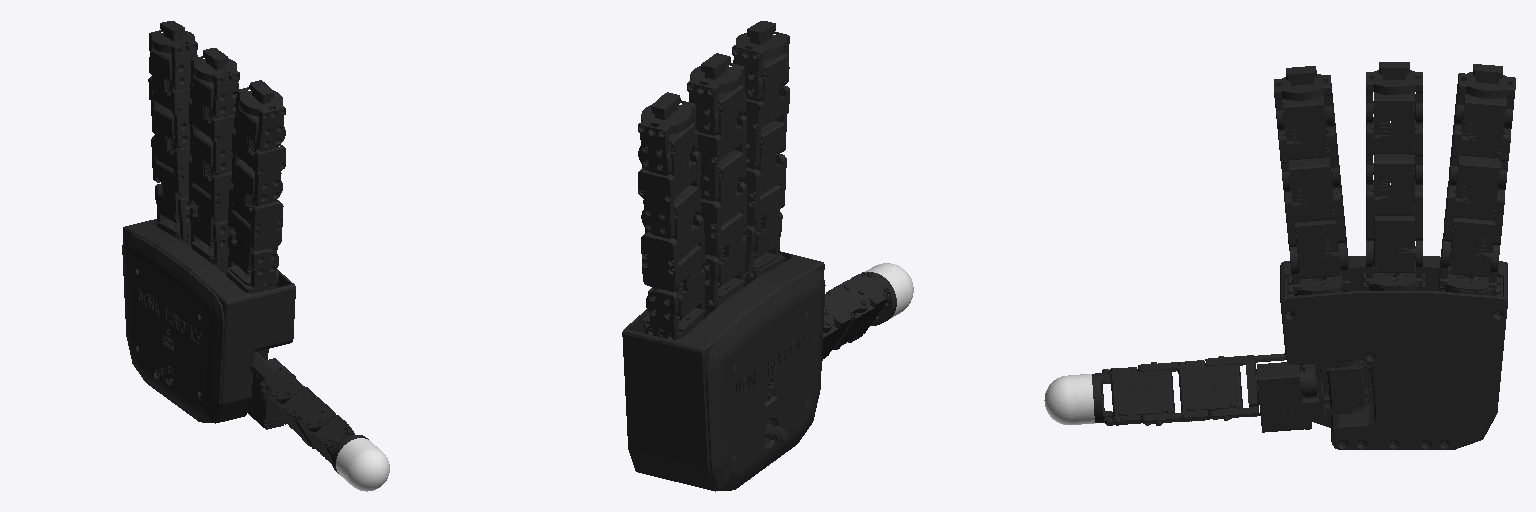
The robot description file, URDF, robot "allegro_hand_left":
<?xml version="1.0" ?>
<!-- =================================================================================== -->
<!-- |    This document was autogenerated by xacro from allegro_hand_description_right.xacro | -->
<!-- |    EDITING THIS FILE BY HAND IS NOT RECOMMENDED                                 | -->
<!-- =================================================================================== -->
<robot name="allegro_hand_left" xmlns:xacro="http://www.ros.org/wiki/xacro">
  <!-- ======================== BASE PARAMS ========================= -->
  <!-- ======================== FINGER PARAMS ======================== -->
  <!-- full height from joint to tip. when used,
    the radius of the finger tip sphere will be subtracted
    and one fixed link will be added for the tip. -->
  <!-- ========================= THUMB PARAMS ========================= -->
  <!-- ========================= LIMITS ========================= -->
  <!-- ============================================================================= -->
  <!-- PALM -->
 <link name="world"/>
  <joint name="global" type="fixed">
        <parent link="world"/>
        <child link="palm_link"/>
        <!--<origin xyz="0 0 0.095" rpy="0 0 0"/>-->
        <origin xyz="0 0 0.0" rpy="0 0 0"/>
  </joint>
  <link name="palm_link">
    <visual>
      <geometry>
        <mesh filename="package://allegro_hand_controllers/meshes/left_hand_G.stl" scale="0.001 0.001 0.001"/>
      </geometry>
      <origin rpy="0 0 1.57" xyz="0.02 0.0 -0.1"/>
      <material name="black">
        <color rgba="0.2 0.2 0.2 1"/>
      </material>
    </visual>
    <collision>
      <geometry>
        <mesh filename="package://allegro_hand_controllers/meshes/left_hand_G.stl" scale="0.001 0.001 0.001"/>
      </geometry>
 <origin rpy="0 0 1.57" xyz="0.02 0.0 -0.1"/>
    </collision>
    <inertial>
      <origin rpy="0 0 0" xyz="0 0 0.0475"/>
      <mass value="0.4154"/>
      <inertia ixx="1e-4" ixy="0.0" ixz="0.0" iyy="1e-4" iyz="0.0" izz="1e-4"/>
    </inertial>
  </link>
  <!-- ============================================================================= -->
  <!-- FINGERS -->
  <!-- RIGHT HAND due to which finger is number 0 -->
  <!-- for LEFT HAND switch the sign of the **offset_origin_y** and **finger_angle_r** parameters-->
  <!-- [LINK 0, 4, 8] -->
    <link name="link_0_0">
    <visual>
      <geometry>
        <mesh filename="package://allegro_hand_controllers/meshes/l1.stl" scale="0.001 0.001 0.001"/>
      </geometry>
      <origin rpy="0 0 -1.57" xyz="-0.025 -0.019 0.165"/>
      <material name="black">
        <color rgba="0.2 0.2 0.2 1"/>
      </material>
    </visual>
    <collision>
      <geometry>
        <mesh filename="package://allegro_hand_controllers/meshes/l1.stl" scale="0.001 0.001 0.001"/>
      </geometry>
      <origin rpy="0 0 -1.57" xyz="-0.025 -0.019 0.165"/>
    </collision>
    <inertial>
      <mass value="0.0176"/>
      <origin rpy="0 0 0" xyz="0 0 0"/>
      <inertia ixx="1.2854008e-05" ixy="2.04e-08" ixz="1.89e-06" iyy="1.225e-05" iyz="1.51e-07" izz="2.999e-06"/>
    </inertial>
  </link>
  <joint name="joint_0_0" type="revolute">
    <axis xyz="0 0 1"/>
    <limit effort="15" lower="-0.47" upper="0.47" velocity="7"/>
    <parent link="palm_link"/>
    <child link="link_0_0"/>
    <origin rpy="0.08726646255 0 0" xyz="0.0025 -0.0405 -0.00945"/>
    <dynamics damping="3" friction="10"/>
  </joint>
  <!-- [LINK 1, 5, 9] -->
  <link name="link_1_0">
    <visual>
      <geometry>
        <mesh filename="package://allegro_hand_controllers/meshes/l2.stl" scale="0.001 0.001 0.001"/>
      </geometry>
      <origin rpy="0 0 -1.57" xyz="-0.025 -0.019 0.145"/>
      <material name="black"/>
    </visual>
    <collision>
      <geometry>
        <mesh filename="package://allegro_hand_controllers/meshes/l2.stl" scale="0.001 0.001 0.001"/>
      </geometry>
      <origin rpy="0 0 -1.57" xyz="-0.025 -0.019 0.145"/>
    </collision>
    <inertial>
      <mass value="0.066"/>
      <origin rpy="0 0 0" xyz="0 0 0"/>
      <inertia ixx="6.2497616e-06" ixy="0.0000e-06" ixz="-1.892683e-06" iyy="3.1284129e-05" iyz="0.0000e-06" izz="2.9004797e-05"/>
    </inertial>
  </link>
  <joint name="joint_1_0" type="revolute">
    <limit effort="15" lower="-0.196" upper="1.9" velocity="7"/>
    <axis xyz="0 1 0"/>
    <parent link="link_0_0"/>
    <child link="link_1_0"/>
    <origin xyz="0 0 0.021"/>
    <dynamics damping="3" friction="5"/>
  </joint>
  <!-- [LINK 2, 6, 10]-->
  <link name="link_2_0">
    <visual>
      <geometry>
        <mesh filename="package://allegro_hand_controllers/meshes/l3.stl" scale="0.001 0.001 0.001"/>
      </geometry>
      <origin rpy="0 0 -1.57" xyz="-0.025 -0.019 0.0945"/>
      <material name="black"/>
    </visual>
    <collision>
      <geometry>
        <mesh filename="package://allegro_hand_controllers/meshes/l3.stl" scale="0.001 0.001 0.001"/>
      </geometry>
      <origin rpy="0 0 -1.57" xyz="-0.025 -0.019 0.0945"/>
    </collision>
    <inertial>
      <mass value="0.0366"/>
      <origin rpy="0 0 0" xyz="0 0 0"/>
      <inertia ixx="3.8070280e-06" ixy="5.7154287e-03" ixz="-9.9708657e-07" iyy="1.4547214e-05" iyz="2.632663e-04" izz="1.2905337e-05"/>
    </inertial>
  </link>
  <joint name="joint_2_0" type="revolute">
    <axis xyz="0 1 0"/>
    <limit effort="15" lower="-0.174" upper="1.9" velocity="7"/>
    <parent link="link_1_0"/>
    <child link="link_2_0"/>
    <origin xyz="0 0 0.051"/>
    <dynamics damping="8" friction="10"/>
  </joint>
  <!-- [LINK 3, 7, 11] -->
  <link name="link_3_0">
    <visual>
      <geometry>
        <mesh filename="package://allegro_hand_controllers/meshes/l4.stl" scale="0.001 0.001 0.001"/>
      </geometry>
      <origin rpy="0 0 -1.57" xyz="-0.025 -0.019 0.0561"/>
      <material name="black"/>
    </visual>
    <collision>
      <geometry>
        <mesh filename="package://allegro_hand_controllers/meshes/l4.stl" scale="0.001 0.001 0.001"/>
      </geometry>
      <origin rpy="0 0 -1.57" xyz="-0.025 -0.019 0.0561"/>
    </collision>
    <inertial>
      <mass value="0.00569"/>
      <origin rpy="0 0 0" xyz="0 0 0"/>
      <inertia ixx="1.176928e-06" ixy="5.0891669e-03" ixz="0.000000e-06" iyy="2.40127e-06" iyz="-5.3128971e-11" izz="1.674842e-06"/>
    </inertial>
  </link>
  <joint name="joint_3_0" type="revolute">
    <axis xyz="0 1 0"/>
    <limit effort="15" lower="-0.227" upper="1.9" velocity="7"/>
    <parent link="link_2_0"/>
    <child link="link_3_0"/>
    <origin xyz="0 0 0.0384"/>
    <dynamics damping="10" friction="12"/>
  </joint>
  <!-- [FINGER TIP] -->
  <link name="link_3_0_tip">
    <visual>
      <geometry>
        <mesh filename="package://allegro_hand_controllers/meshes/finger_tip.stl" scale="0.001 0.001 0.001"/>
      </geometry>
      <origin rpy="0 0 -1.57" xyz="-0.05482 -0.01393 -0.00995"/>
      <material name="white">
        <color rgba=".9 .9 .9 1"/>
      </material>
    </visual>
    <collision>
      <geometry>
        <mesh filename="package://allegro_hand_controllers/meshes/finger_tip.stl" scale="0.001 0.001 0.001"/>
      </geometry>
      <origin rpy="0 0 -1.57" xyz="-0.05482 -0.01393 -0.00995"/>
    </collision>
    <inertial>
      <mass value="0.00"/>
      <origin rpy="0 0 0" xyz="0 0 0"/>
      <inertia ixx="9.68e-07" ixy="0" ixz="0" iyy="9.68e-07" iyz="0" izz="9.68e-07"/>
    </inertial>
  </link>
  <joint name="joint_3_0_tip" type="fixed">
    <parent link="link_3_0"/>
    <child link="link_3_0_tip"/>
    <origin rpy="0 0 0" xyz="0 0 0.0267"/>
  </joint>
  <!-- [LINK 0, 4, 8] -->
  <link name="link_4_0">
    <visual>
      <geometry>
        <mesh filename="package://allegro_hand_controllers/meshes/l1.stl" scale="0.001 0.001 0.001"/>
      </geometry>
        <origin rpy="0 0 -1.57" xyz="-0.025 -0.019 0.165"/>
      <material name="black"/>
    </visual>
    <collision>
     <geometry>
        <mesh filename="package://allegro_hand_controllers/meshes/l1.stl" scale="0.001 0.001 0.001"/>
      </geometry>
        <origin rpy="0 0 -1.57" xyz="-0.025 -0.019 0.165"/>
    </collision>
    <inertial>
      <mass value="0.0176"/>
      <origin rpy="0 0 0" xyz="0 0 0"/>
      <inertia ixx="1.2854008e-05" ixy="2.04e-08" ixz="1.89e-06" iyy="1.225e-05" iyz="1.51e-07" izz="2.999e-06"/>
    </inertial>
  </link>
  <joint name="joint_4_0" type="revolute">
    <axis xyz="0 0 1"/>
    <limit effort="15" lower="-0.47" upper="0.47" velocity="7"/>
    <parent link="palm_link"/>
    <child link="link_4_0"/>
    <origin rpy="0.0 0 0" xyz="0 0 -0.0079"/>
    <dynamics damping="3" friction="10"/>
  </joint>
  <!-- [LINK 1, 5, 9] -->
  <link name="link_5_0">
    <visual>
      <geometry>
        <mesh filename="package://allegro_hand_controllers/meshes/l2.stl" scale="0.001 0.001 0.001"/>
      </geometry>
      <origin rpy="0 0 -1.57" xyz="-0.025 -0.019 0.145"/>
      <material name="black"/>
    </visual>
    <collision>
      <geometry>
        <mesh filename="package://allegro_hand_controllers/meshes/l2.stl" scale="0.001 0.001 0.001"/>
      </geometry>
      <origin rpy="0 0 -1.57" xyz="-0.025 -0.019 0.145"/>
    </collision>
    <inertial>
      <mass value="0.066"/>
      <origin rpy="0 0 0" xyz="0 0 0"/>
      <inertia ixx="6.2497616e-06" ixy="0.0000e-06" ixz="-1.892683e-06" iyy="3.1284129e-05" iyz="0.0000e-06" izz="2.9004797e-05"/>
    </inertial>
  </link>
  <joint name="joint_5_0" type="revolute">
    <limit effort="15" lower="-0.196" upper="1.9" velocity="7"/>
    <axis xyz="0 1 0"/>
    <parent link="link_4_0"/>
    <child link="link_5_0"/>
    <origin xyz="0 0 0.021"/>
    <dynamics damping="3" friction="5"/>
  </joint>
  <!-- [LINK 2, 6, 10]-->
  <link name="link_6_0">
    <visual>
      <geometry>
        <mesh filename="package://allegro_hand_controllers/meshes/l3.stl" scale="0.001 0.001 0.001"/>
      </geometry>
      <origin rpy="0 0 -1.57" xyz="-0.025 -0.019 0.0945"/>
      <material name="black"/>
    </visual>
    <collision>
      <geometry>
        <mesh filename="package://allegro_hand_controllers/meshes/l3.stl" scale="0.001 0.001 0.001"/>
      </geometry>
      <origin rpy="0 0 -1.57" xyz="-0.025 -0.019 0.0945"/>
    </collision>
    <inertial>
      <mass value="0.0366"/>
      <origin rpy="0 0 0" xyz="0 0 0"/>
      <inertia ixx="3.8070280e-06" ixy="5.7154287e-03" ixz="-9.9708657e-07" iyy="1.4547214e-05" iyz="2.632663e-04" izz="1.2905337e-05"/>
    </inertial>
  </link>
  <joint name="joint_6_0" type="revolute">
    <axis xyz="0 1 0"/>
    <limit effort="15" lower="-0.174" upper="1.9" velocity="7"/>
    <parent link="link_5_0"/>
    <child link="link_6_0"/>
    <origin xyz="0 0 0.051"/>
    <dynamics damping="8" friction="10"/>
  </joint>
  <!-- [LINK 3, 7, 11] -->
  <link name="link_7_0">
    <visual>
      <geometry>
        <mesh filename="package://allegro_hand_controllers/meshes/l4.stl" scale="0.001 0.001 0.001"/>
      </geometry>
      <origin rpy="0 0 -1.57" xyz="-0.025 -0.019 0.0561"/>
      <material name="black"/>
    </visual>
    <collision>
      <geometry>
        <mesh filename="package://allegro_hand_controllers/meshes/l4.stl" scale="0.001 0.001 0.001"/>
      </geometry>
      <origin rpy="0 0 -1.57" xyz="-0.025 -0.019 0.0561"/>
    </collision>
    <inertial>
      <mass value="0.00569"/>
      <origin rpy="0 0 0" xyz="0 0 0"/>
      <inertia ixx="1.176928e-06" ixy="5.0891669e-03" ixz="0.000000e-06" iyy="2.40127e-06" iyz="-5.3128971e-11" izz="1.674842e-06"/>
    </inertial>
  </link>
  <joint name="joint_7_0" type="revolute">
    <axis xyz="0 1 0"/>
    <limit effort="15" lower="-0.227" upper="1.9" velocity="7"/>
    <parent link="link_6_0"/>
    <child link="link_7_0"/>
    <origin xyz="0 0 0.0384"/>
    <dynamics damping="10" friction="12"/>
  </joint>
  <!-- [FINGER TIP] -->
  <link name="link_7_0_tip">
    <visual>
      <geometry>
        <mesh filename="package://allegro_hand_controllers/meshes/finger_tip.stl" scale="0.001 0.001 0.001"/>
      </geometry>
       <origin rpy="0 0 -1.57" xyz="-0.05482 -0.01393 -0.00995"/>
      <material name="white">
        <color rgba=".9 .9 .9 1"/>
      </material>
    </visual>
    <collision>
      <geometry>
        <mesh filename="package://allegro_hand_controllers/meshes/finger_tip.stl" scale="0.001 0.001 0.001"/>
      </geometry>
       <origin rpy="0 0 -1.57" xyz="-0.05482 -0.01393 -0.00995"/>
    </collision>
    <inertial>
      <mass value="0.00"/>
      <origin rpy="0 0 0" xyz="0 0 0"/>
      <inertia ixx="9.68e-07" ixy="0" ixz="0" iyy="9.68e-07" iyz="0" izz="9.68e-07"/>
    </inertial>
  </link>
  <joint name="joint_7_0_tip" type="fixed">
    <parent link="link_7_0"/>
    <child link="link_7_0_tip"/>
    <origin rpy="0 0 0" xyz="0 0 0.0267"/>
  </joint>
  <!-- [LINK 0, 4, 8] -->
  <link name="link_8_0">
    <visual>
      <geometry>
        <mesh filename="package://allegro_hand_controllers/meshes/l1.stl" scale="0.001 0.001 0.001"/>
      </geometry>
      <origin rpy="0 0 -1.57" xyz="-0.025 -0.019 0.165"/>
      <material name="black">
        <color rgba="0.2 0.2 0.2 1"/>
      </material>
    </visual>
    <collision>
      <geometry>
        <mesh filename="package://allegro_hand_controllers/meshes/l1.stl" scale="0.001 0.001 0.001"/>
      </geometry>
      <origin rpy="0 0 -1.57" xyz="-0.025 -0.019 0.165"/>
    </collision>
    <inertial>
      <mass value="0.0176"/>
      <origin rpy="0 0 0" xyz="0 0 0"/>
      <inertia ixx="1.2854008e-05" ixy="2.04e-08" ixz="1.89e-06" iyy="1.225e-05" iyz="1.51e-07" izz="2.999e-06"/>
    </inertial>
  </link>
  <joint name="joint_8_0" type="revolute">
    <axis xyz="0 0 1"/>
    <limit effort="15" lower="-0.47" upper="0.47" velocity="7"/>
    <parent link="palm_link"/>
    <child link="link_8_0"/>
    <origin rpy="-0.08726646255 0 0" xyz="0.00 0.0405 -0.00945"/>
    <dynamics damping="3" friction="10"/>
  </joint>
  <!-- [LINK 1, 5, 9] -->
  <link name="link_9_0">
    <visual>
      <geometry>
        <mesh filename="package://allegro_hand_controllers/meshes/l2.stl" scale="0.001 0.001 0.001"/>
      </geometry>
      <origin rpy="0 0 -1.57" xyz="-0.025 -0.019 0.145"/>
      <material name="black"/>
    </visual>
    <collision>
      <geometry>
        <mesh filename="package://allegro_hand_controllers/meshes/l2.stl" scale="0.001 0.001 0.001"/>
      </geometry>
      <origin rpy="0 0 -1.57" xyz="-0.025 -0.019 0.145"/>
    </collision>
    <inertial>
      <mass value="0.066"/>
      <origin rpy="0 0 0" xyz="0 0 0"/>
      <inertia ixx="6.2497616e-06" ixy="0.0000e-06" ixz="-1.892683e-06" iyy="3.1284129e-05" iyz="0.0000e-06" izz="2.9004797e-05"/>
    </inertial>
  </link>
  <joint name="joint_9_0" type="revolute">
    <limit effort="15" lower="-0.196" upper="1.9" velocity="7"/>
    <axis xyz="0 1 0"/>
    <parent link="link_8_0"/>
    <child link="link_9_0"/>
    <origin xyz="0.00 0 0.021"/>
    <dynamics damping="3" friction="5"/>
  </joint>
  <!-- [LINK 2, 6, 10]-->
  <link name="link_10_0">
    <visual>
      <geometry>
        <mesh filename="package://allegro_hand_controllers/meshes/l3.stl" scale="0.001 0.001 0.001"/>
      </geometry>
      <origin rpy="0 0 -1.57" xyz="-0.025 -0.019 0.0945"/>
      <material name="black"/>
    </visual>
    <collision>
      <geometry>
        <mesh filename="package://allegro_hand_controllers/meshes/l3.stl" scale="0.001 0.001 0.001"/>
      </geometry>
      <origin rpy="0 0 -1.57" xyz="-0.025 -0.019 0.0945"/>
    </collision>
    <inertial>
      <mass value="0.0366"/>
      <origin rpy="0 0 0" xyz="0 0 0"/>
      <inertia ixx="3.8070280e-06" ixy="5.7154287e-03" ixz="-9.9708657e-07" iyy="1.4547214e-05" iyz="2.632663e-04" izz="1.2905337e-05"/>
    </inertial>
  </link>
  <joint name="joint_10_0" type="revolute">
    <axis xyz="0 1 0"/>
    <limit effort="15" lower="-0.174" upper="1.9" velocity="7"/>
    <parent link="link_9_0"/>
    <child link="link_10_0"/>
    <origin xyz="0 0 0.051"/>
    <dynamics damping="8" friction="10"/>
  </joint>
  <!-- [LINK 3, 7, 11] -->
  <link name="link_11_0">
    <visual>
      <geometry>
        <mesh filename="package://allegro_hand_controllers/meshes/l4.stl" scale="0.001 0.001 0.001"/>
      </geometry>
      <origin rpy="0 0 -1.57" xyz="-0.025 -0.019 0.0561"/>
      <material name="black"/>
    </visual>
    <collision>
      <geometry>
        <mesh filename="package://allegro_hand_controllers/meshes/l4.stl" scale="0.001 0.001 0.001"/>
      </geometry>
      <origin rpy="0 0 -1.57" xyz="-0.025 -0.019 0.0561"/>
    </collision>
    <inertial>
      <mass value="0.00569"/>
      <origin rpy="0 0 0" xyz="0 0 0"/>
      <inertia ixx="1.176928e-06" ixy="5.0891669e-03" ixz="0.000000e-06" iyy="2.40127e-06" iyz="-5.3128971e-11" izz="1.674842e-06"/>
    </inertial>
  </link>
  <joint name="joint_11_0" type="revolute">
    <axis xyz="0 1 0"/>
    <limit effort="15" lower="-0.227" upper="1.9" velocity="7"/>
    <parent link="link_10_0"/>
    <child link="link_11_0"/>
    <origin xyz="0 0 0.0384"/>
    <dynamics damping="10" friction="12"/>
  </joint>
  <!-- [FINGER TIP] -->
  <link name="link_11_0_tip">
    <visual>
      <geometry>
        <mesh filename="package://allegro_hand_controllers/meshes/finger_tip.stl" scale="0.001 0.001 0.001"/>
      </geometry>
       <origin rpy="0 0 -1.57" xyz="-0.05482 -0.01393 -0.00995"/>
      <material name="white">
        <color rgba=".9 .9 .9 1"/>
      </material>
    </visual>
    <collision>
      <geometry>
        <mesh filename="package://allegro_hand_controllers/meshes/finger_tip.stl" scale="0.001 0.001 0.001"/>
      </geometry>
       <origin rpy="0 0 -1.57" xyz="-0.05482 -0.01393 -0.00995"/>
    </collision>
    <inertial>
      <mass value="0.00"/>
      <origin rpy="0 0 0" xyz="0 0 0"/>
      <inertia ixx="9.68e-07" ixy="0" ixz="0" iyy="9.68e-07" iyz="0" izz="9.68e-07"/>
    </inertial>
  </link>
  <joint name="joint_11_0_tip" type="fixed">
    <parent link="link_11_0"/>
    <child link="link_11_0_tip"/>
    <origin rpy="0 0 0" xyz="0 0 0.0267"/>
  </joint>
  <!-- THUMB -->
  <!-- [LINK 12] -->
  <link name="link_12_0">
    <visual>
      <geometry>
        <mesh filename="package://allegro_hand_controllers/meshes/t1_set.stl" scale="0.001 0.001 0.001"/>
      </geometry>
      <origin rpy="3.926991 3.14 3.14" xyz="0.021 -0.1145 0.0725"/>
      <material name="black">
        <color rgba=".2 .2 .2 1"/>
      </material>
    </visual>
    <collision>
      <geometry>
        <mesh filename="package://allegro_hand_controllers/meshes/t1_set.stl" scale="0.001 0.001 0.001"/>
      </geometry>
      <origin rpy="3.926991 3.14 3.14" xyz="0.021 -0.1145 0.0725"/>
    </collision>
    <inertial>
      <mass value="0.0446"/>
      <origin rpy="0 0 0" xyz="0 0 0"/>
      <inertia ixx="5.44e-5" ixy="4.0e-07" ixz="-1.12e-07" iyy="9.19e-06" iyz="1.07e-05" izz="4.8e-05"/>
    </inertial>
  </link>
  <joint name="joint_12_0" type="revolute">
    <axis xyz="-1 0 0"/>
    <limit effort="15" lower="-1.78" upper="0.5" velocity="7"/>
    <parent link="palm_link"/>
    <child link="link_12_0"/>
    <origin rpy="3.14 -1.483529863 -1.5707963259" xyz="0.002 -0.027 -0.06342"/>
    <dynamics damping="3" friction="10"/>
  </joint>
  <!-- [LINK 13] -->
  <link name="link_13_0">
    <visual>
      <geometry>
        <mesh filename="package://allegro_hand_controllers/meshes/t2_set.stl" scale="0.001 0.001 0.001"/>
      </geometry>
      <origin rpy="3.14 3.14 1.57" xyz="-0.138 -0.0605 0.2143"/>
      <material name="black">
        <color rgba=".2 .2 .2 1"/>
      </material>
    </visual>
    <collision>
      <geometry>
        <mesh filename="package://allegro_hand_controllers/meshes/t2_set.stl" scale="0.001 0.001 0.001"/>
      </geometry>
      <origin rpy="3.14 3.14 1.57" xyz="-0.138 -0.0605 0.2143"/>
    </collision>
    <inertial>
      <mass value="0.0173"/>
      <origin rpy="0 0 0" xyz="0 0 0"/>
      <inertia ixx="1.52e-05" ixy="-2.09e-08" ixz="-9.8e-09" iyy="1.3323e-05" iyz="-2.04e-06" izz="2.85e-06"/>
    </inertial>
  </link>
  <joint name="joint_13_0" type="revolute">
    <axis xyz="0 0 1"/>
       <limit effort="15" lower="1.0" upper="3.22" velocity="7"/>
    <parent link="link_12_0"/>
    <child link="link_13_0"/>
    <origin xyz="-0.001 0.00 0.06874"/>
    <dynamics damping="3" friction="5"/>
  </joint>
  <!-- [LINK 14] -->
  <link name="link_14_0">
    <visual>
      <geometry>
        <mesh filename="package://allegro_hand_controllers/meshes/t3_set.stl" scale="0.001 0.001 0.001"/>
      </geometry>
      <origin rpy="3.14 3.14 1.57" xyz="-0.1265 -0.061 0.166"/>
      <material name="black">
      </material>
    </visual>
    <collision>
      <geometry>
        <mesh filename="package://allegro_hand_controllers/meshes/t3_set.stl" scale="0.001 0.001 0.001"/>
      </geometry>
      <origin rpy="3.14 3.14 1.57" xyz="-0.1265 -0.061 0.166"/>
    </collision>
    <inertial>
      <mass value="0.03607"/>
      <origin rpy="0 0 0" xyz="0 0 0"/>
      <inertia ixx="3.7e-06" ixy="2.43e-07" ixz="6.48e-07" iyy="1.54e-05" iyz="-3.11e-08" izz="1.388e-05"/>
    </inertial>
  </link>
  <joint name="joint_14_0" type="revolute">
    <axis xyz="0 1 0"/>
    <!--<limit effort="15" lower="-0.54" upper="1.53" velocity="7"/>-->
           <limit effort="15" lower="-1.85" upper="0.2" velocity="7"/>
    <parent link="link_13_0"/>
    <child link="link_14_0"/>
    <origin xyz="0 0 0.00"/>
    <dynamics damping="3" friction="10"/>
  </joint>
  <!-- [LINK 15] -->
  <link name="link_15_0">
    <visual>
      <geometry>
         <mesh filename="package://allegro_hand_controllers/meshes/t4_set.stl" scale="0.001 0.001 0.001"/>
      </geometry>
      <origin rpy="3.14 3.14 1.57" xyz="-0.149 -0.061 0.096"/>
      <material name="black">
      </material>
    </visual>
    <collision>
      <geometry>
         <mesh filename="package://allegro_hand_controllers/meshes/t4_set.stl" scale="0.001 0.001 0.001"/>
      </geometry>
      <origin rpy="3.14 3.14 1.57" xyz="-0.149 -0.061 0.096"/>
    </collision>
    <inertial>
      <mass value="0.0334"/>
      <origin rpy="0 0 0" xyz="0 0 0"/>
      <inertia ixx="2.94e-06" ixy="1.244e-07" ixz="3.52e-07" iyy="1.13e-05" iyz="-3.11e-08" izz="1.06e-05"/>
    </inertial>
  </link>
  <joint name="joint_15_0" type="revolute">
    <axis xyz="0 1 0"/>
    <limit effort="15" lower="-1.80" upper="0.2" velocity="7"/>
    <parent link="link_14_0"/>
    <child link="link_15_0"/>
    <origin xyz="0 0 0.038"/>
    <dynamics damping="3" friction="12"/>
  </joint>
  <!-- [FINGER TIP] -->
  <link name="link_15_0_tip">
    <visual>
      <geometry>
        <mesh filename="package://allegro_hand_controllers/meshes/finger_tip_silicon.stl" scale="0.001 0.001 0.001"/>
      </geometry>
      <origin rpy="0 0 3.14" xyz="-0.014 0.0545 -0.0172"/>
      <material name="white">
        <color rgba=".9 .9 .9 1"/>
      </material>
    </visual>
    <collision>
      <geometry>
        <mesh filename="package://allegro_hand_controllers/meshes/finger_tip_silicon.stl" scale="0.001 0.001 0.001"/>
      </geometry>
      <origin rpy="0 0 3.14" xyz="-0.014 0.0545 -0.0172"/>
    </collision>
    <inertial>
      <mass value="0.0014"/>
      <origin rpy="0 0 0" xyz="0 0 0"/>
      <inertia ixx="9.68e-07" ixy="0" ixz="0" iyy="9.68e-07" iyz="0" izz="9.68e-07"/>
    </inertial>
  </link>
  <joint name="joint_15_0_tip" type="fixed">
    <parent link="link_15_0"/>
    <child link="link_15_0_tip"/>
    <origin rpy="0 0 0" xyz="0 0 0.05"/>
  </joint>
  <!-- ============================================================================= -->
  <!-- THUMB MACRO -->
  <!-- END THUMB MACRO -->
  <!-- THREE FINGER MACRO -->
  <!-- [[END]] THREE FINGER MACRO -->
</robot>

--- Render facts (derived) ---
Views: 3 orthographic renders of the robot side by side, from view 1: azimuth 30°, elevation 25°; view 2: azimuth 150°, elevation 25°; view 3: azimuth 270°, elevation 25°.
Model allegro_hand_left with 22 links and 21 joints (16 revolute, 5 fixed), rooted at world, posed all joints at 0 but 1 set to mid-range because 0 is outside their limits (joint_13_0 = 2.11).
Links seen in each view (by area): view 1: palm_link, link_1_0, link_5_0, link_9_0, link_2_0, link_6_0, link_10_0, link_3_0, link_15_0_tip, link_7_0, link_11_0, link_14_0 (+6 smaller); view 2: palm_link, link_9_0, link_5_0, link_1_0, link_10_0, link_6_0, link_11_0, link_2_0, link_7_0, link_3_0, link_15_0, link_8_0 (+4 smaller); view 3: palm_link, link_1_0, link_9_0, link_5_0, link_12_0, link_14_0, link_15_0, link_2_0, link_10_0, link_6_0, link_15_0_tip, link_11_0 (+6 smaller).
Link boxes in pixels (x1,y1,x2,y2): palm_link: (122, 219, 295, 423); link_1_0: (228, 160, 283, 275); link_5_0: (189, 131, 233, 247); link_9_0: (151, 106, 191, 223); link_2_0: (231, 106, 285, 205); link_6_0: (189, 75, 238, 174); link_10_0: (148, 49, 197, 147); link_3_0: (234, 80, 285, 151); link_15_0_tip: (336, 438, 389, 491); link_7_0: (190, 48, 239, 117); link_11_0: (149, 21, 197, 89); link_14_0: (269, 377, 336, 459); palm_link: (622, 251, 825, 491); link_9_0: (641, 185, 705, 320); link_5_0: (698, 150, 746, 287); link_1_0: (741, 120, 786, 258); link_10_0: (638, 123, 701, 238); link_6_0: (695, 85, 746, 200); link_11_0: (638, 92, 698, 175); link_2_0: (733, 53, 789, 168); link_7_0: (687, 53, 745, 135); link_3_0: (732, 21, 789, 100); link_15_0: (833, 272, 896, 348); link_8_0: (646, 269, 705, 339); palm_link: (1280, 256, 1507, 449); link_1_0: (1284, 157, 1345, 278); link_9_0: (1444, 155, 1504, 276); link_5_0: (1366, 154, 1422, 272); link_12_0: (1256, 360, 1364, 432); link_14_0: (1138, 360, 1242, 425); link_15_0: (1092, 367, 1174, 425); link_2_0: (1278, 95, 1340, 191); link_10_0: (1449, 94, 1510, 189); link_6_0: (1366, 92, 1422, 184); link_15_0_tip: (1044, 374, 1094, 424); link_11_0: (1454, 64, 1515, 128).
Bounding box of the posed robot: 0.0626 × 0.2638 × 0.231 m (x, y, z).
Meshes: 11 distinct files referenced, 18 mesh visuals loaded (10 binary STL); not drawn: 3 (reference not matched to a file when rendering).